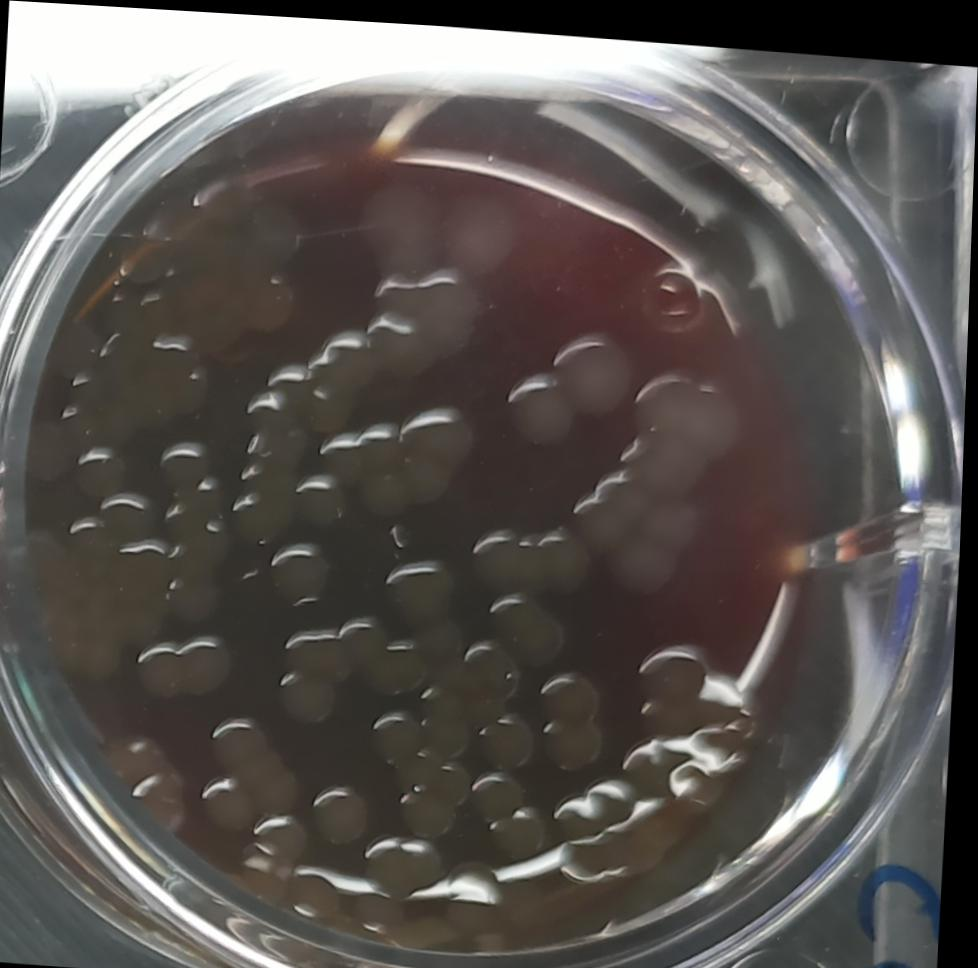vangil: (321, 391, 476, 518), (275, 608, 426, 732), (573, 455, 712, 588), (627, 360, 747, 498), (508, 321, 629, 447), (363, 259, 481, 384), (194, 708, 305, 829), (469, 513, 596, 590), (135, 627, 246, 707), (538, 666, 615, 773), (474, 766, 555, 856), (486, 583, 572, 665), (379, 547, 465, 620), (268, 536, 338, 610), (314, 778, 378, 843), (482, 704, 545, 769), (156, 438, 214, 496), (76, 441, 131, 500)
